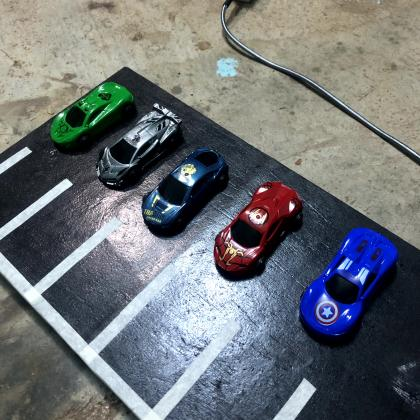Car: (299, 226, 400, 338), (213, 180, 303, 273), (96, 102, 184, 186), (142, 145, 228, 228), (51, 82, 134, 149)
